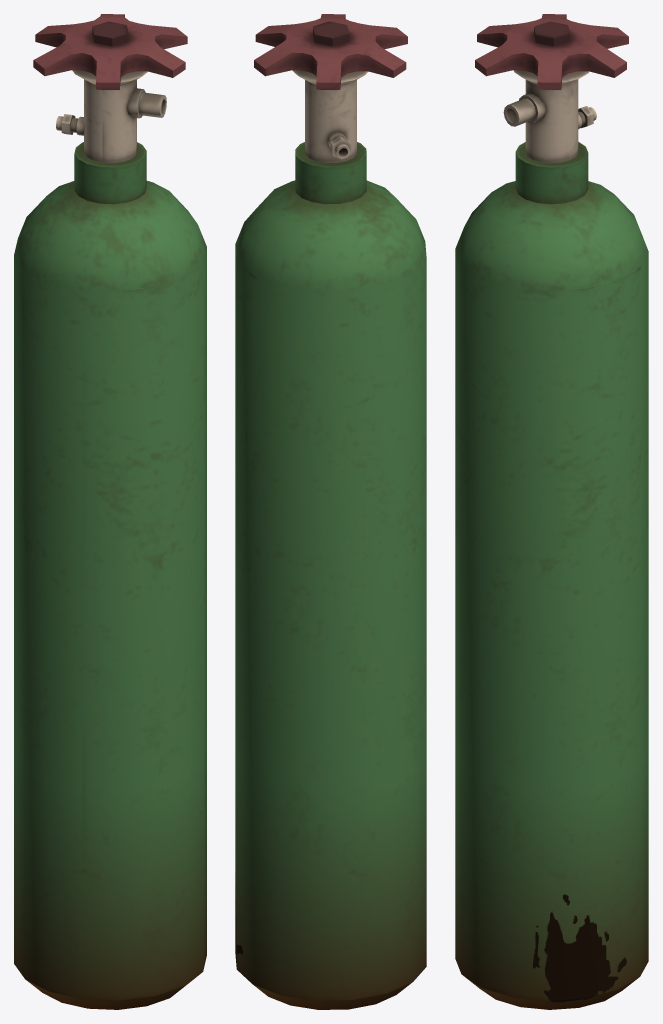
Rendered from oxigeno_prefab.fbx.
3 views of the same model, side by side, from view 1: azimuth 30°, elevation 25°; view 2: azimuth 150°, elevation 25°; view 3: azimuth 270°, elevation 25° (orthographic).
Parts seen in each view (by area): view 1: oxigeno_prefab; view 2: oxigeno_prefab; view 3: oxigeno_prefab.
Boxes of the visible parts, x1,y1,x2,y2 form: oxigeno_prefab: (14,14,206,1009); oxigeno_prefab: (235,14,426,1009); oxigeno_prefab: (455,14,648,1009).
Bounding box in the file's own units: 21.78 × 118 × 21.78.
1 material, 1 textured.
